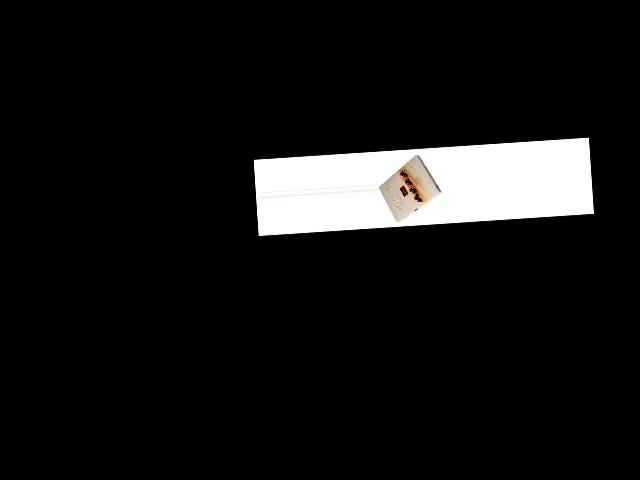chocolate: (377, 148, 444, 223)
